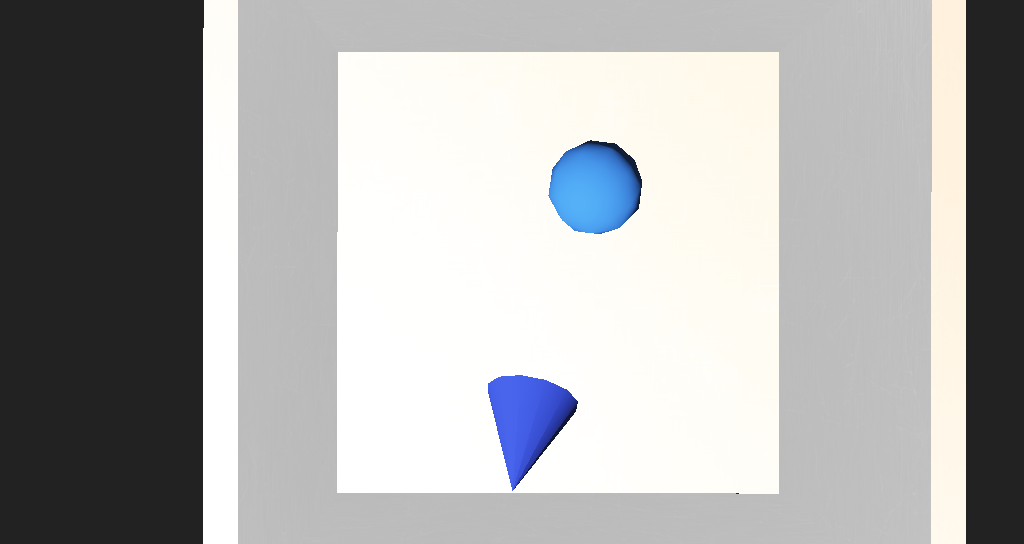cone: (421, 141, 684, 384)
cylinder: (435, 313, 522, 394)
sphere: (502, 208, 563, 251)
